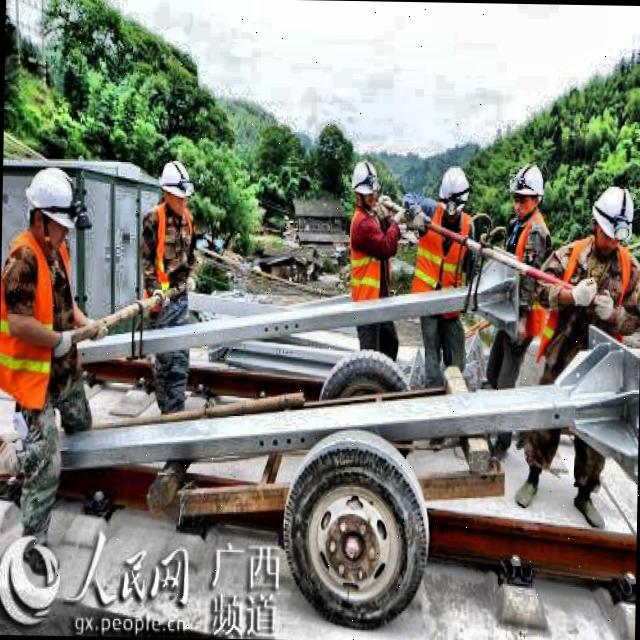helmet: (24, 162, 80, 242), (502, 158, 547, 222), (590, 175, 632, 241), (437, 163, 472, 224), (154, 156, 192, 212), (352, 156, 383, 206)
